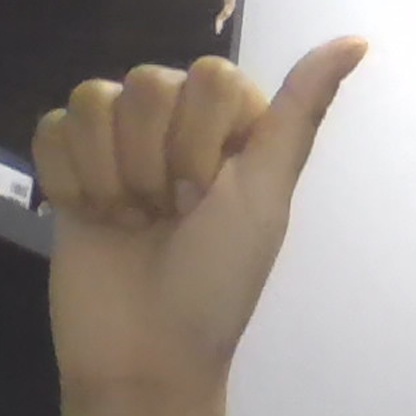A: (32, 37, 367, 380)
